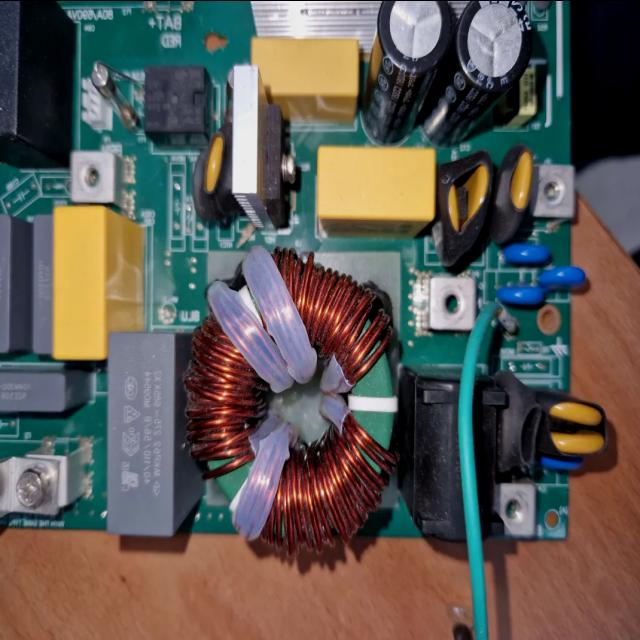A: (183, 250, 394, 548)
B: (0, 441, 79, 529)
C: (362, 0, 452, 143), (447, 0, 535, 140)
